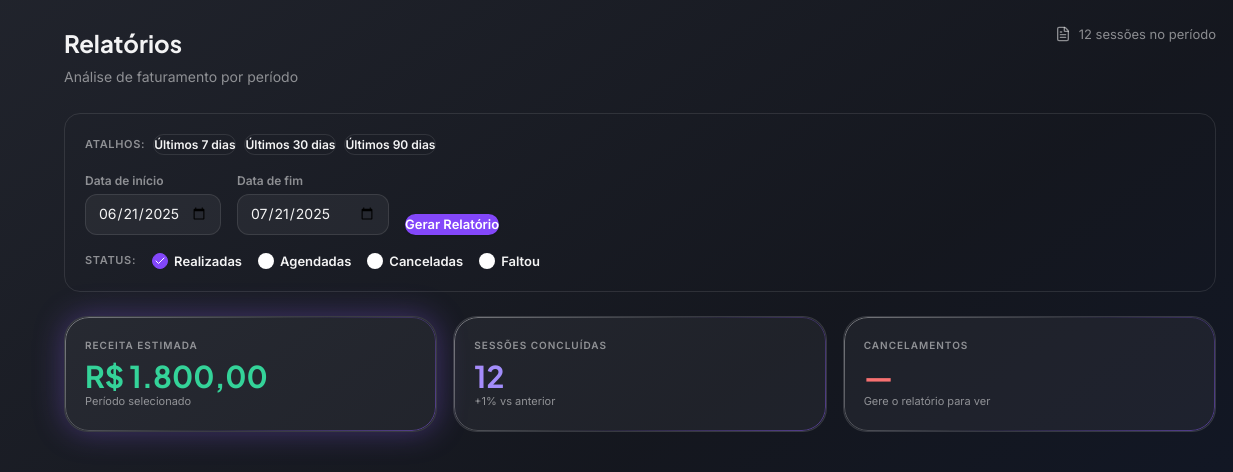
Test: ReportsPage › preset "Últimos 30 dias" restaura start_date após mudança por outro preset
Note: First switch to 7-day window, then back to 30
Click the button "Últimos 7 dias". click: (195, 144)
box: [153, 134, 236, 155]
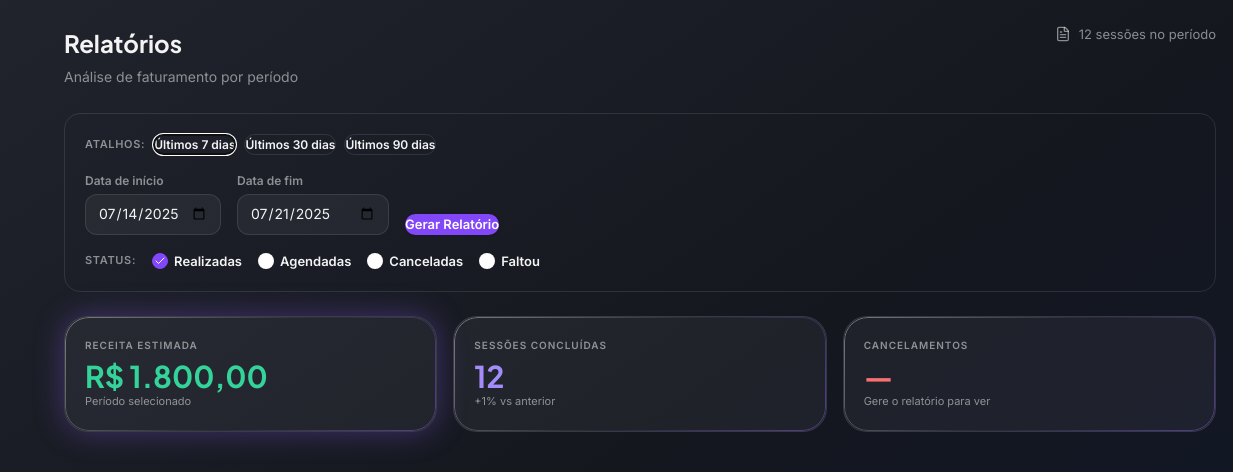
Click the button "Últimos 30 dias". click: (290, 144)
box: [244, 134, 336, 155]
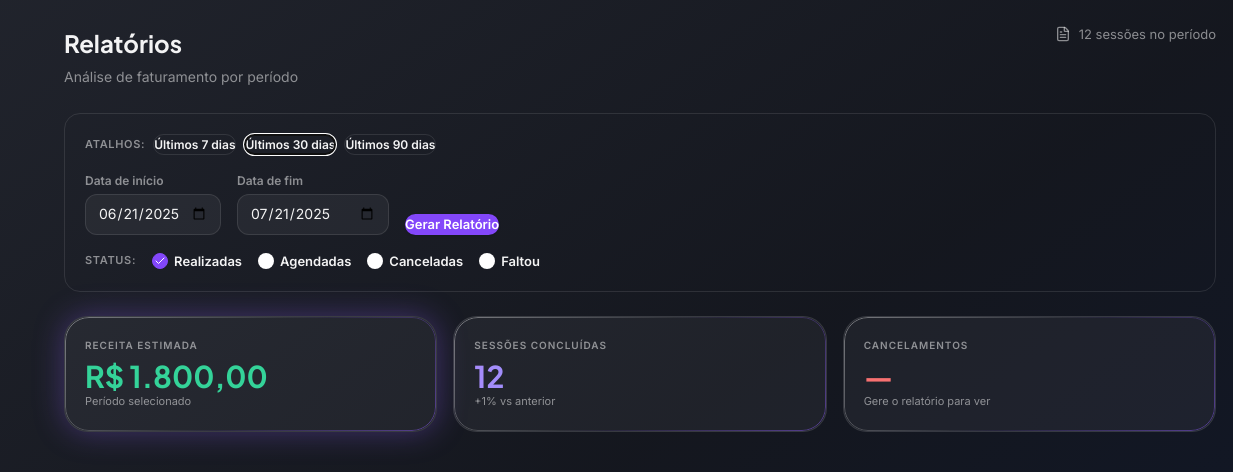
Result: the date field labelled "Data de início" holds "2025-06-21" at [85, 194, 221, 235]
